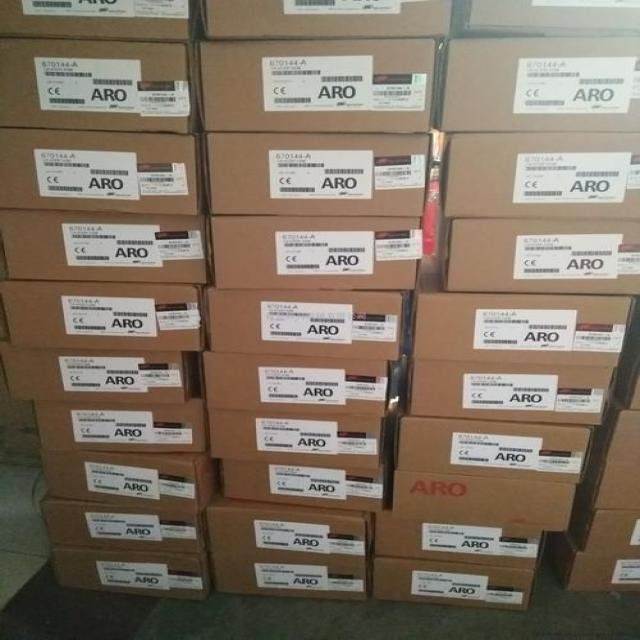box: (409, 254, 632, 367), (199, 40, 442, 134), (431, 38, 639, 134), (199, 135, 435, 216), (0, 38, 199, 134), (0, 127, 201, 215), (436, 133, 639, 220), (212, 216, 421, 289), (436, 220, 639, 295), (2, 211, 209, 284), (206, 289, 409, 360), (406, 360, 618, 426), (394, 417, 593, 486), (203, 351, 407, 416), (40, 452, 222, 512), (391, 473, 575, 532), (205, 409, 397, 464), (205, 495, 376, 555), (2, 349, 193, 402), (35, 394, 209, 452), (202, 1, 460, 39), (218, 458, 393, 512), (40, 497, 208, 552), (371, 514, 545, 567), (370, 554, 532, 610), (50, 546, 217, 598), (212, 551, 369, 598), (455, 2, 639, 39), (538, 533, 639, 590), (567, 492, 639, 552), (586, 394, 639, 466), (574, 456, 639, 510), (608, 366, 639, 410)
